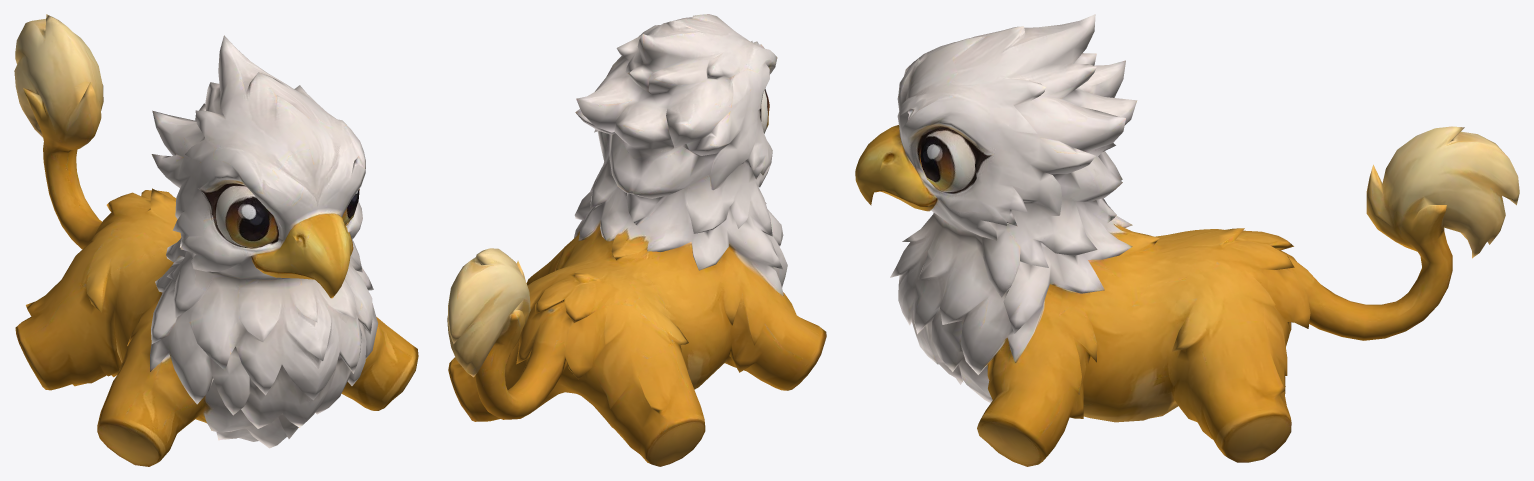
The model's file is griffon_corps.glb.
The picture shows the model from 3 angles, left to right: view 1: azimuth 30°, elevation 25°; view 2: azimuth 150°, elevation 25°; view 3: azimuth 270°, elevation 25°; orthographic projection. The views are drawn at different scales.
Bounding box in the file's own units: 0.5445 × 0.6411 × 0.957.
1 material, 1 textured.
